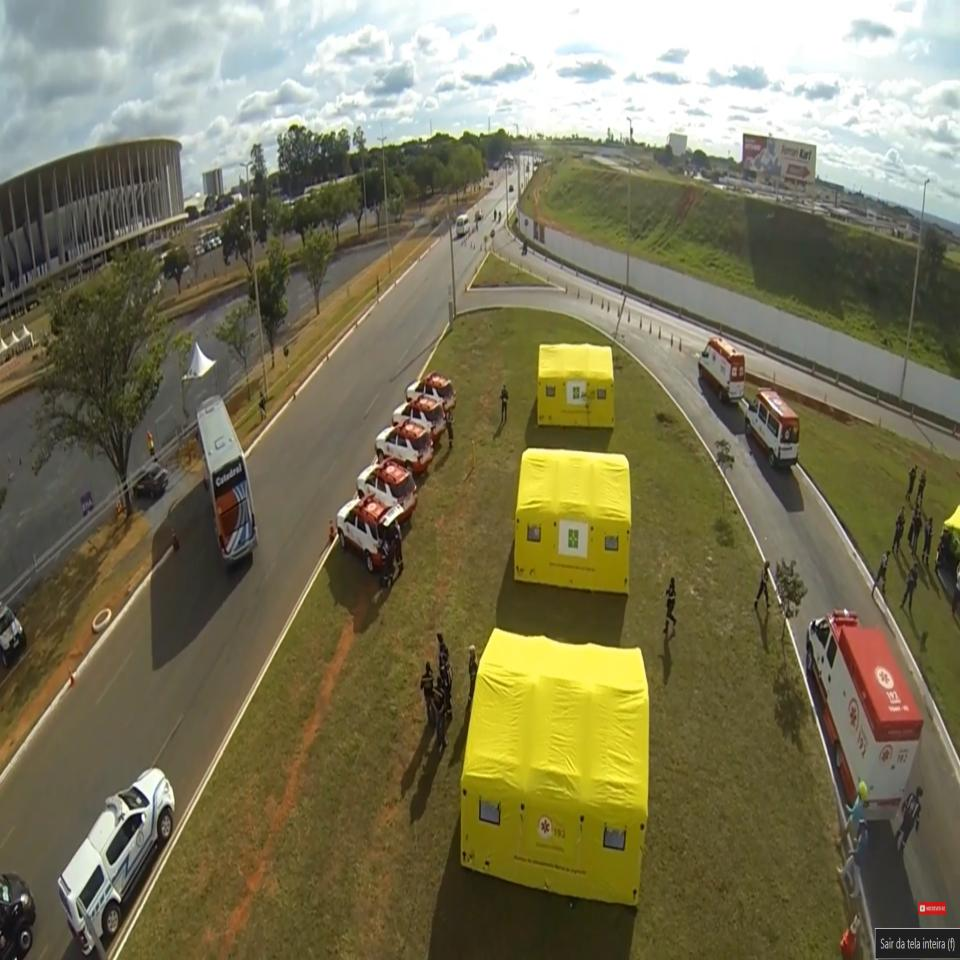bombeiro: (806, 608, 924, 818), (336, 492, 406, 573), (745, 386, 800, 468), (698, 337, 746, 403)
